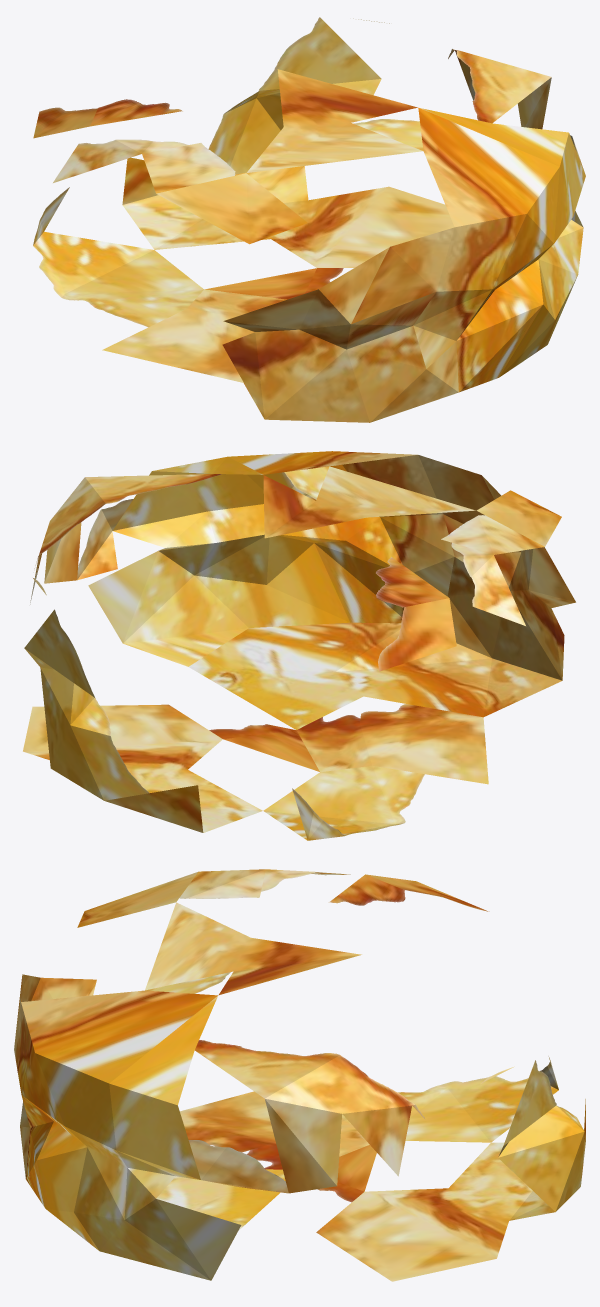
Rendered from biscuit.fbx.
The picture shows the model from 3 angles, top to bottom: view 1: azimuth 30°, elevation 25°; view 2: azimuth 150°, elevation 25°; view 3: azimuth 270°, elevation 25°; orthographic projection. The views are drawn at different scales.
Parts seen in each view (by area): view 1: Biscuit; view 2: Biscuit; view 3: Biscuit.
Part boxes in pixels (x1,y1,x2,y2): Biscuit: (33, 17, 585, 422); Biscuit: (23, 451, 575, 840); Biscuit: (14, 869, 585, 1281).
Bounding box in the file's own units: 244 × 103 × 234.
